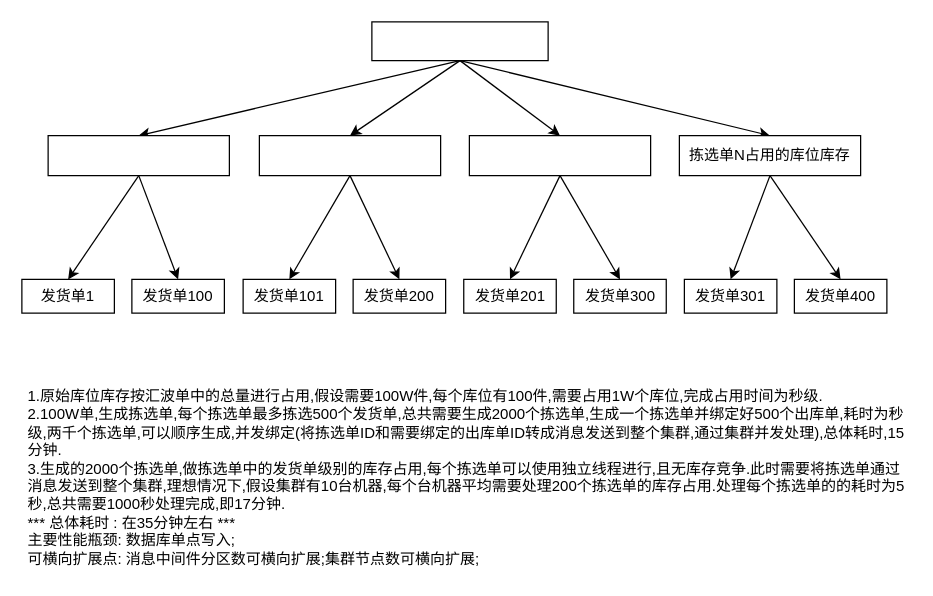
Image size: 933x596. Some labels were removed from this diagram. Each missing label, with the centre of its shape:
库位库存: (x=459, y=41)
拣选单1占用的库位库存: (x=138, y=155)
拣选单2占用的库位库存: (x=349, y=155)
拣选单3占用的库位库存: (x=559, y=155)
